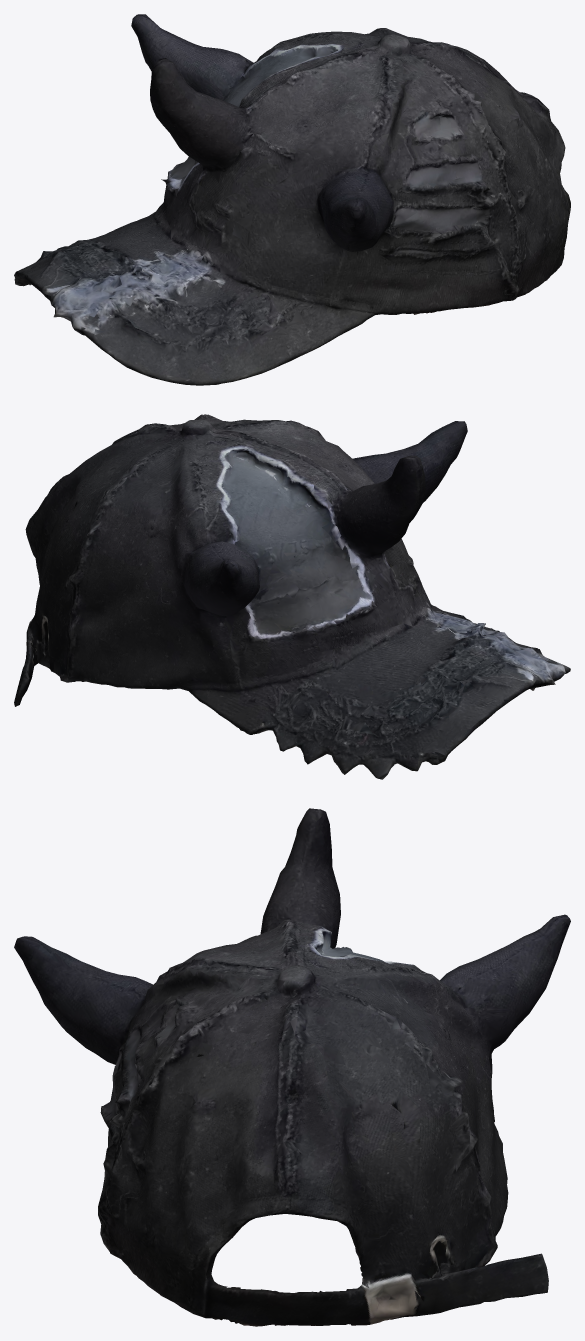
The model's file is Power.gltf.
3 views of the same model, one above another, from view 1: azimuth 30°, elevation 25°; view 2: azimuth 150°, elevation 25°; view 3: azimuth 270°, elevation 25° (orthographic). The views are drawn at different scales.
Visible parts, largest first — view 1: mesh.019; view 2: mesh.019; view 3: mesh.019.
Boxes of the visible parts, x1,y1,x2,y2 form: mesh.019: (14, 14, 570, 385); mesh.019: (14, 414, 570, 779); mesh.019: (14, 808, 570, 1326).
Size of the model in its own units: 0.3143 by 0.1561 by 0.2492.
1 material, 1 textured.
